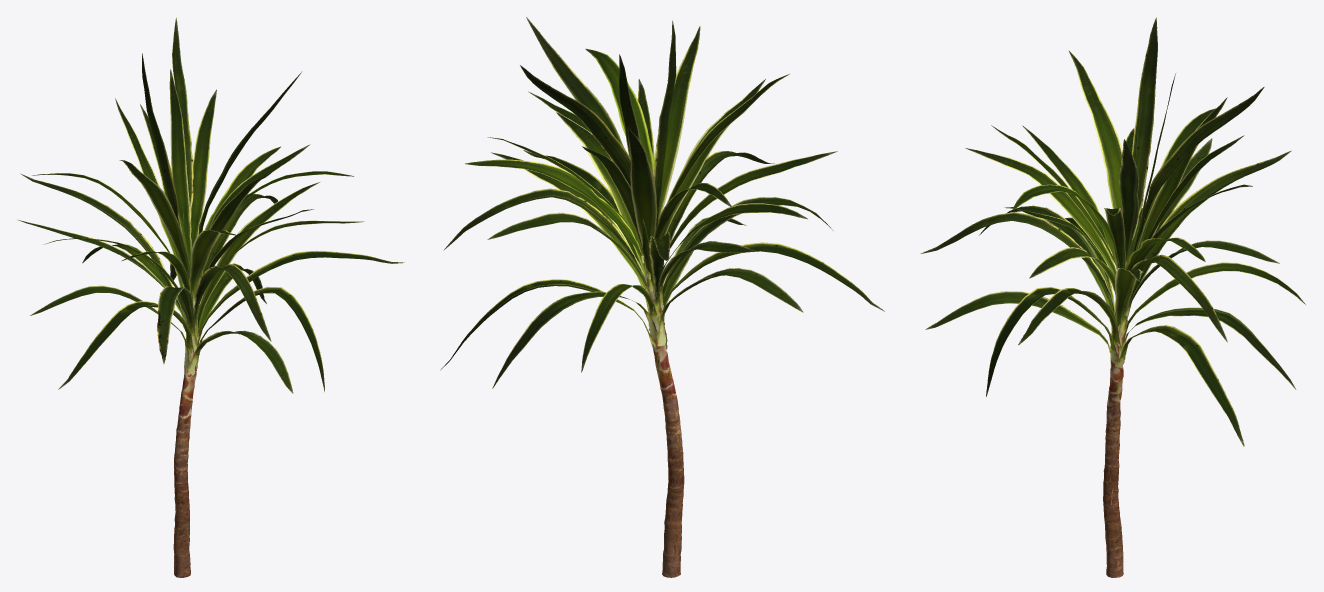
File: yucca_a.glb
3 views of the same model, side by side, from view 1: azimuth 30°, elevation 25°; view 2: azimuth 150°, elevation 25°; view 3: azimuth 270°, elevation 25° (orthographic). The views are drawn at different scales.
Parts seen in each view (by area): view 1: Megascans yucca_a; view 2: Megascans yucca_a; view 3: Megascans yucca_a.
Part boxes in pixels (x1=…): Megascans yucca_a: x1=17, y1=17, x2=404, y2=577; Megascans yucca_a: x1=440, y1=17, x2=884, y2=577; Megascans yucca_a: x1=920, y1=17, x2=1306, y2=577.
Size of the model in its own units: 1.23 by 1.78 by 1.15.
Materials: 1 (1 with a texture image).
